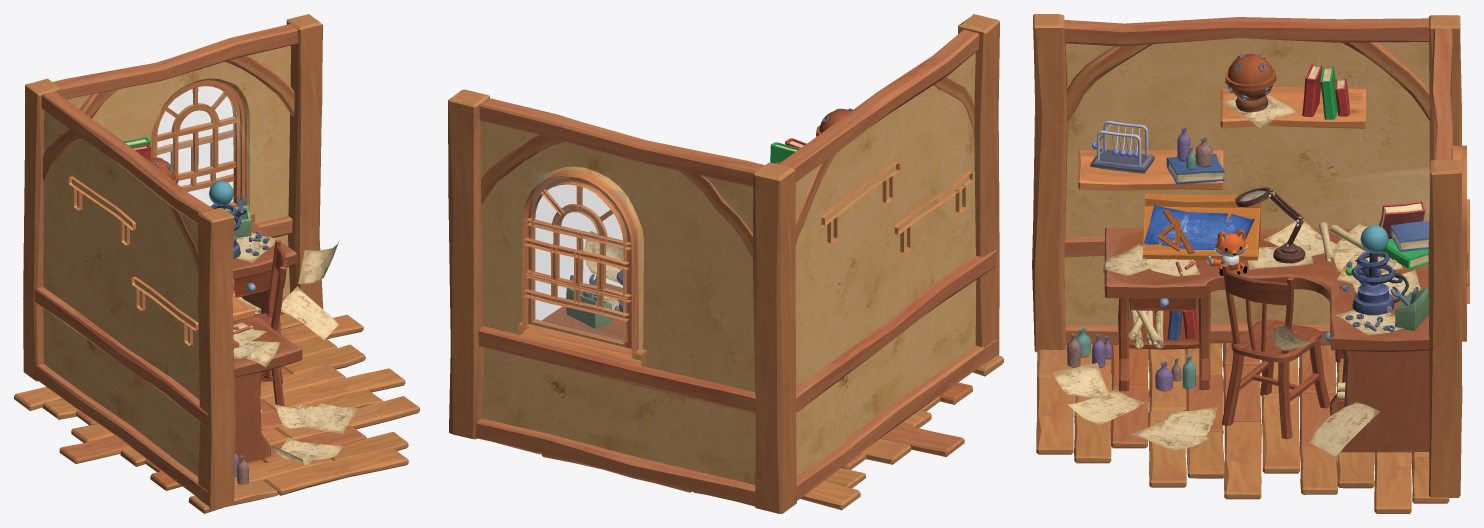
3 renders of one model, left to right at view 1: azimuth 30°, elevation 25°; view 2: azimuth 150°, elevation 25°; view 3: azimuth 270°, elevation 25°, orthographic. The views are drawn at different scales.
Visible parts, largest first — view 1: Wall_01, Wall_02, Pillar_01, Pillar_03, Pillar_02, Window, Beam_02, WindowPanel, Beam_01, Beam_05, Beam_03, DeskTop (+33 smaller); view 2: Wall_02, Wall_01, Pillar_02, Pillar_03, WindowPanel, Window, Pillar_01, Beam_02, Beam_06, Beam_04, Beam_01, Beam_05 (+14 smaller); view 3: Wall_01, Pillar_03, Pillar_01, DeskTop, Beam_01, DeskSupport_02, Chair, Cube.049, WallShelf_01, WallShelf_02, Plank_14, Plane.007 (+54 smaller).
Boxes of the visible parts, <box> form: Wall_01: <box>43,110,199,476</box>; Wall_02: <box>66,45,290,296</box>; Pillar_01: <box>197,207,235,508</box>; Pillar_03: <box>286,14,323,309</box>; Pillar_02: <box>23,78,61,381</box>; Window: <box>152,80,245,207</box>; Beam_02: <box>53,24,298,99</box>; WindowPanel: <box>157,86,235,205</box>; Beam_01: <box>41,91,213,223</box>; Beam_05: <box>33,364,207,504</box>; Beam_03: <box>34,287,208,427</box>; DeskTop: <box>233,221,302,377</box>; Wall_02: <box>480,121,755,485</box>; Wall_01: <box>795,52,976,476</box>; Pillar_02: <box>753,162,796,513</box>; Pillar_03: <box>448,89,489,439</box>; WindowPanel: <box>531,170,626,346</box>; Window: <box>524,175,631,348</box>; Pillar_01: <box>958,14,999,364</box>; Beam_02: <box>479,98,764,187</box>; Beam_06: <box>475,418,755,506</box>; Beam_04: <box>478,326,755,413</box>; Beam_01: <box>778,29,979,182</box>; Beam_05: <box>793,340,996,502</box>; Wall_01: <box>1064,38,1429,325</box>; Pillar_03: <box>1428,159,1462,497</box>; Pillar_01: <box>1032,14,1067,352</box>; DeskTop: <box>1104,227,1429,352</box>; Beam_01: <box>1064,17,1428,46</box>; DeskSupport_02: <box>1330,350,1429,452</box>; Chair: <box>1222,262,1329,439</box>; Cube.049: <box>1142,193,1260,260</box>; WallShelf_01: <box>1078,149,1223,190</box>; WallShelf_02: <box>1220,87,1365,128</box>; Plank_14: <box>1224,422,1261,499</box>; Plane.007: <box>1144,205,1254,250</box>.
Size of the model in its own units: 3.25 by 2.57 by 3.05.
Materials: 6 (3 with a texture image).
